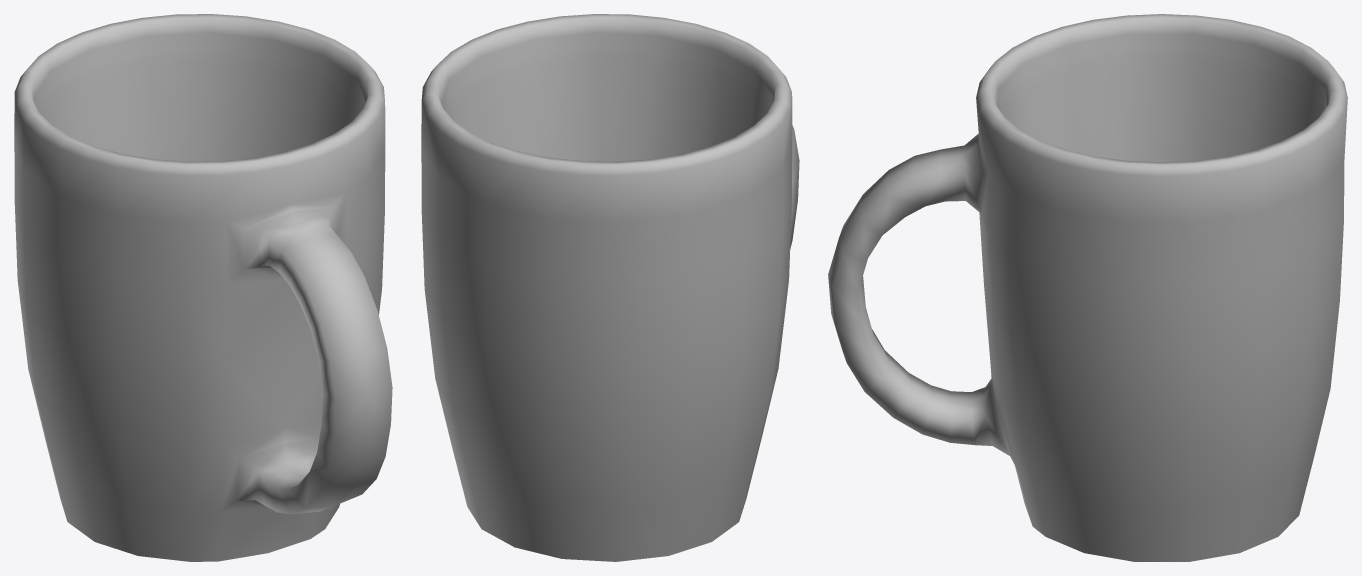
The model's file is SM_Mug_A1.fbx.
3 views of the same model, side by side, from view 1: azimuth 30°, elevation 25°; view 2: azimuth 150°, elevation 25°; view 3: azimuth 270°, elevation 25° (orthographic).
Visible parts, largest first — view 1: SM_Mug_A1; view 2: SM_Mug_A1; view 3: SM_Mug_A1.
Boxes of the visible parts, left/top/right/bottom form: SM_Mug_A1: left=14, top=14, right=392, bottom=561; SM_Mug_A1: left=421, top=14, right=799, bottom=561; SM_Mug_A1: left=828, top=14, right=1347, bottom=561.
Bounding box in the file's own units: 9.76 × 13.64 × 11.98.
1 material, 1 textured.
